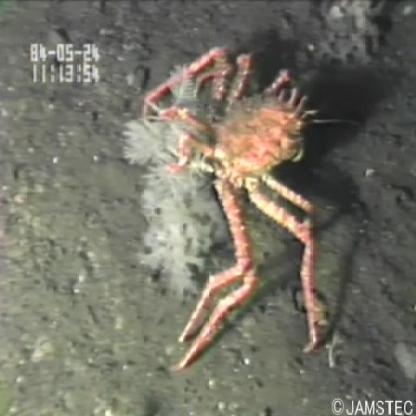Bio: (119, 37, 330, 379)
